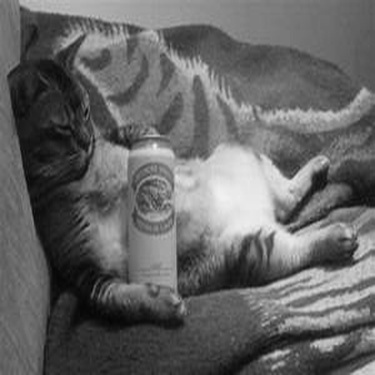cat: (9, 30, 358, 328)
